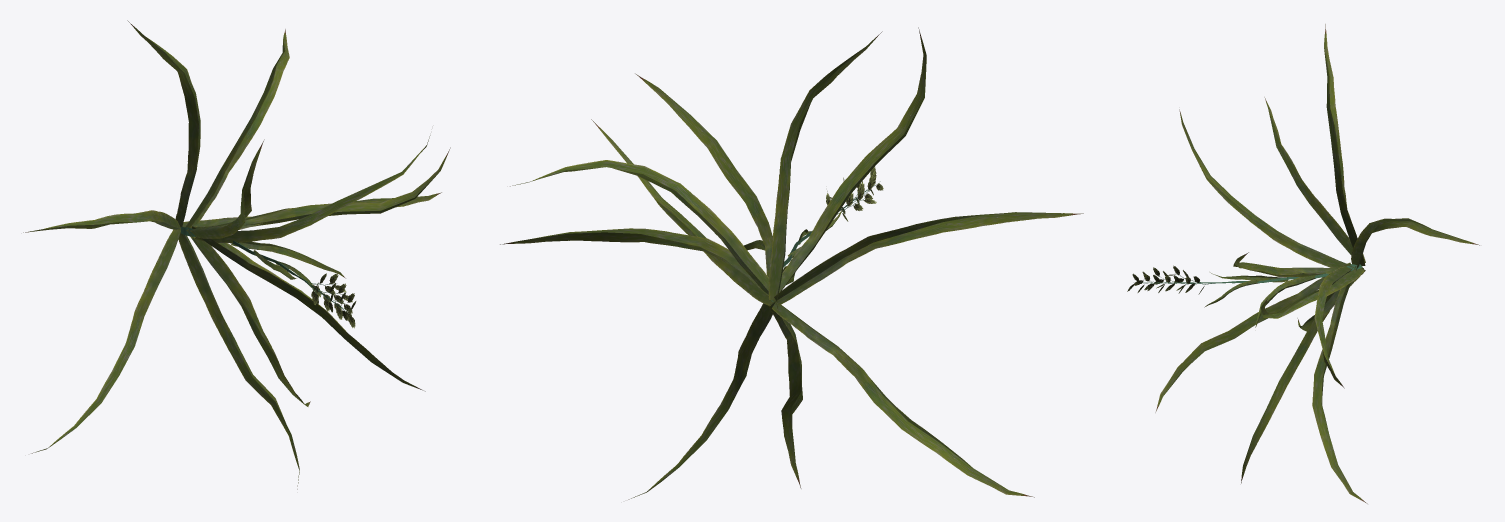
3 renders of one model, left to right at view 1: azimuth 30°, elevation 25°; view 2: azimuth 150°, elevation 25°; view 3: azimuth 270°, elevation 25°, orthographic. The views are drawn at different scales.
Parts seen in each view (by area): view 1: GC14_1; view 2: GC14_1; view 3: GC14_1.
Part boxes in pixels (left/top/right/bottom): GC14_1: left=23, top=20, right=450, bottom=489; GC14_1: left=500, top=27, right=1083, bottom=499; GC14_1: left=1127, top=24, right=1479, bottom=503.
Size of the model in its own units: 0.9883 by 0.9468 by 0.7369.
3 materials, 3 textured.
